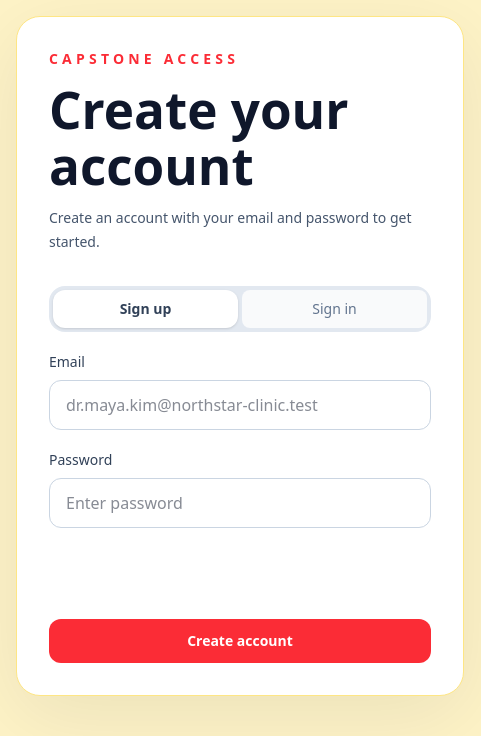
Test case: LoginPage › moves to the verification step after a successful sign up
Type "clinician@example.com" into the field labelled "Email". click: {"x": 240, "y": 405}
box: [49,380,431,430]
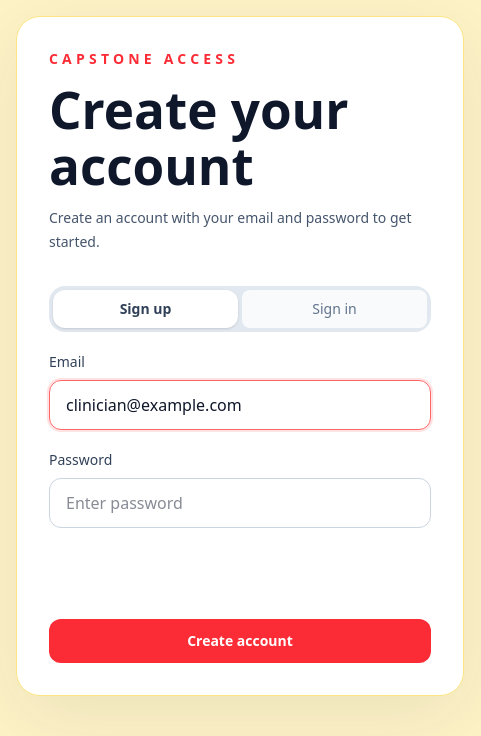
Type "strong-password" into the password field labelled "Password". click: {"x": 240, "y": 503}
box: [49,478,431,528]
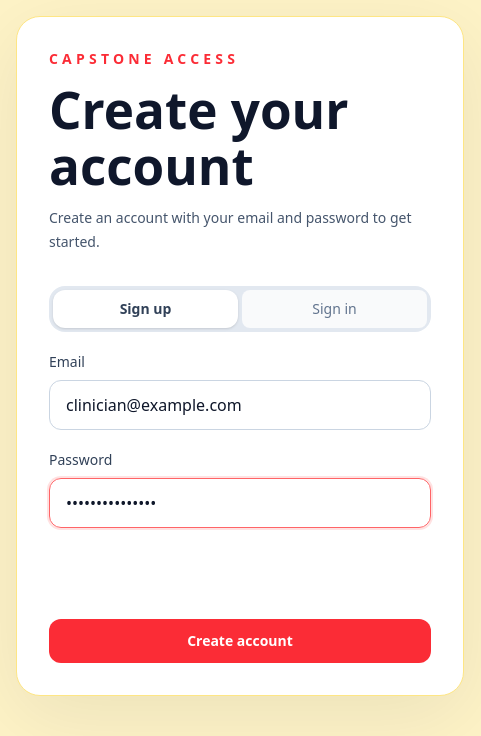
Click the button "Create account". click: {"x": 240, "y": 641}
box: [49,619,431,663]
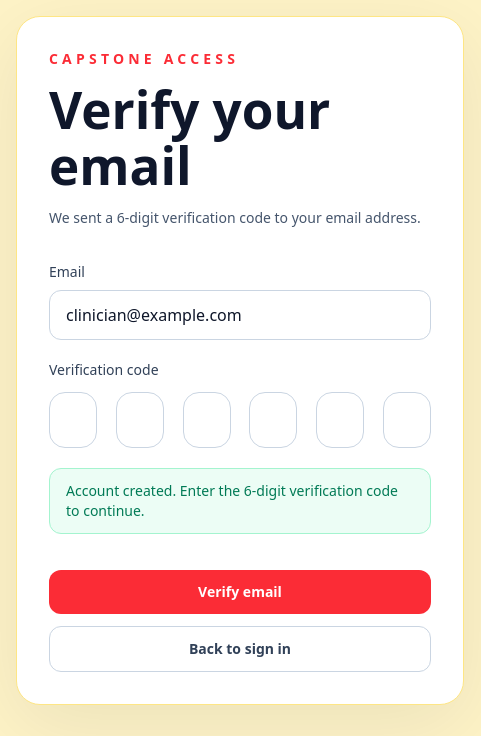
Now the field showing "clinician@example.com" is shown, box [49,290,431,340]
Now the heading "Verify your email" is shown, box [49,74,330,200]
Now the text "Account created. Enter the 6-digit verification code to continue." is shown, box [49,468,431,534]
